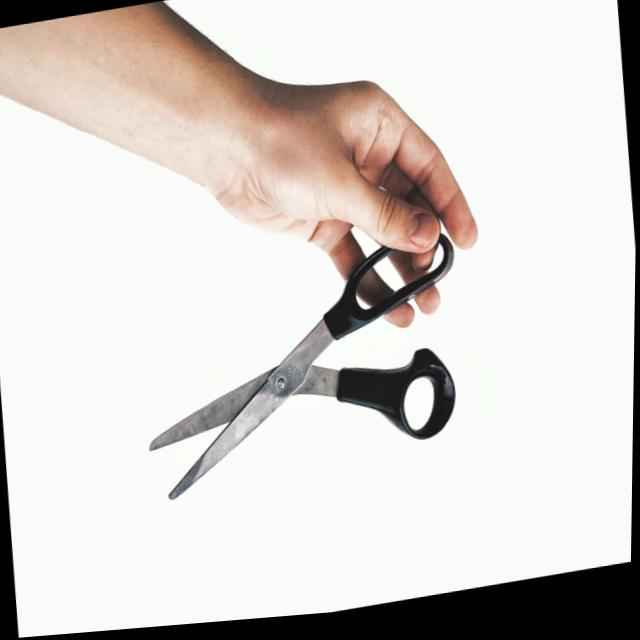scissor: (135, 232, 479, 521)
